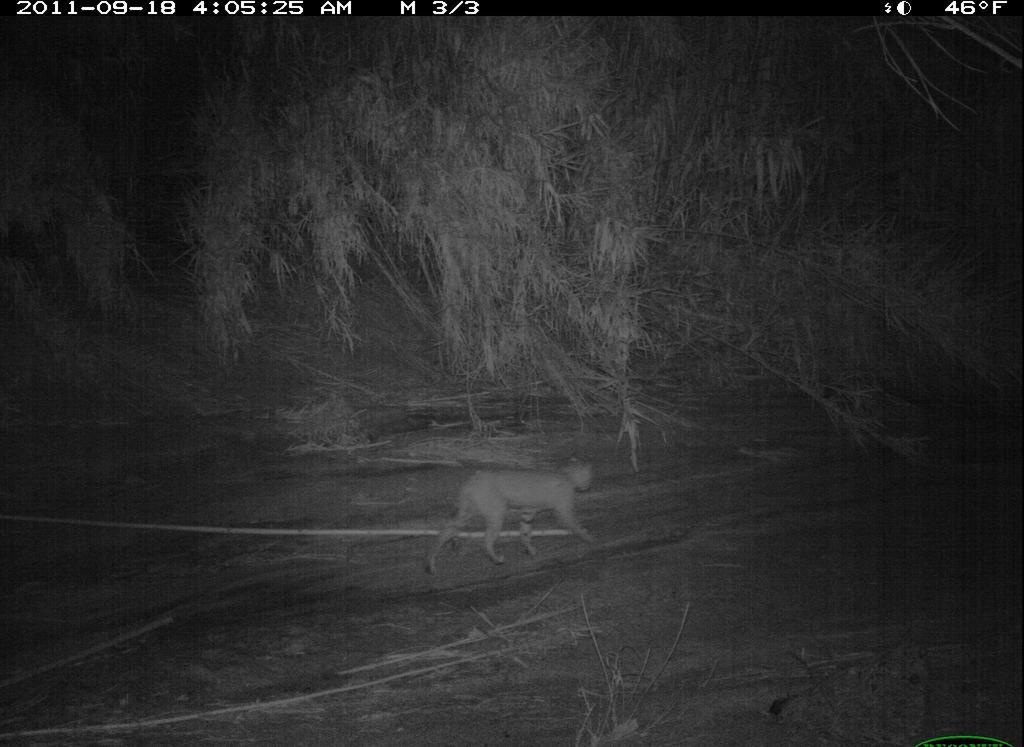bobcat: (419, 457, 601, 593)
